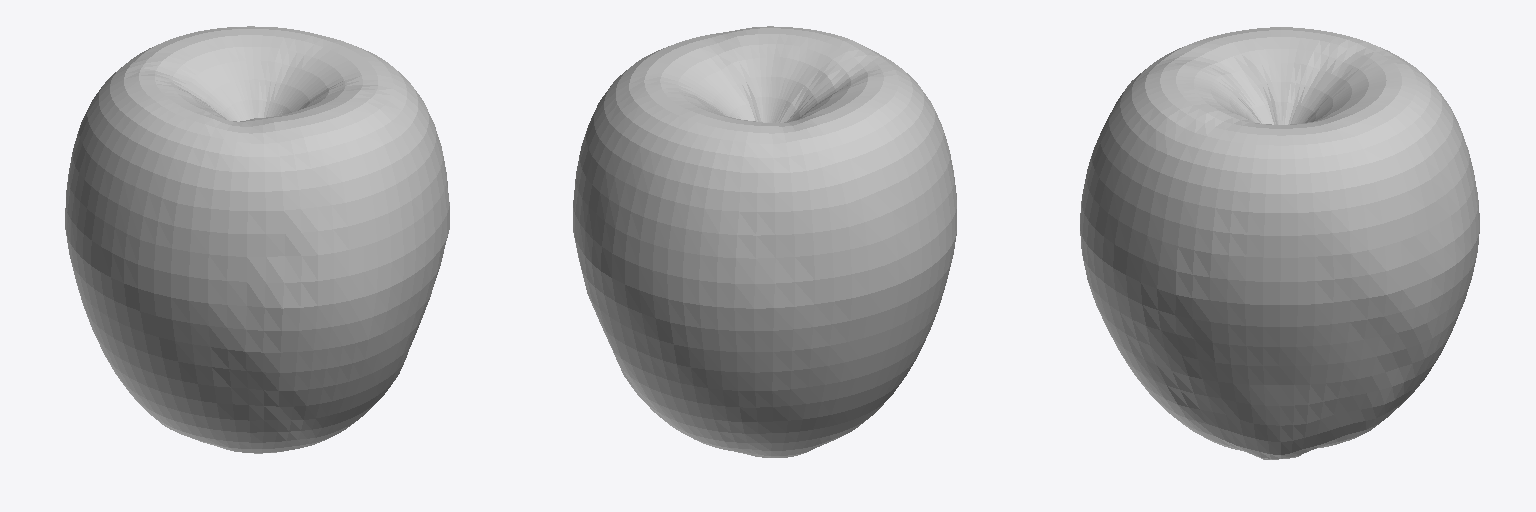
File: apple.obj
The picture shows the model from 3 angles: view 1: azimuth 30°, elevation 25°; view 2: azimuth 150°, elevation 25°; view 3: azimuth 270°, elevation 25°; orthographic projection.
Parts seen in each view (by area): view 1: apple_skin; view 2: apple_skin; view 3: apple_skin.
Part boxes in pixels (bbox=[...]): apple_skin: bbox=[65, 26, 449, 453]; apple_skin: bbox=[573, 26, 956, 457]; apple_skin: bbox=[1080, 27, 1479, 459].
Size of the model in its own units: 6.54 by 6.75 by 6.89.